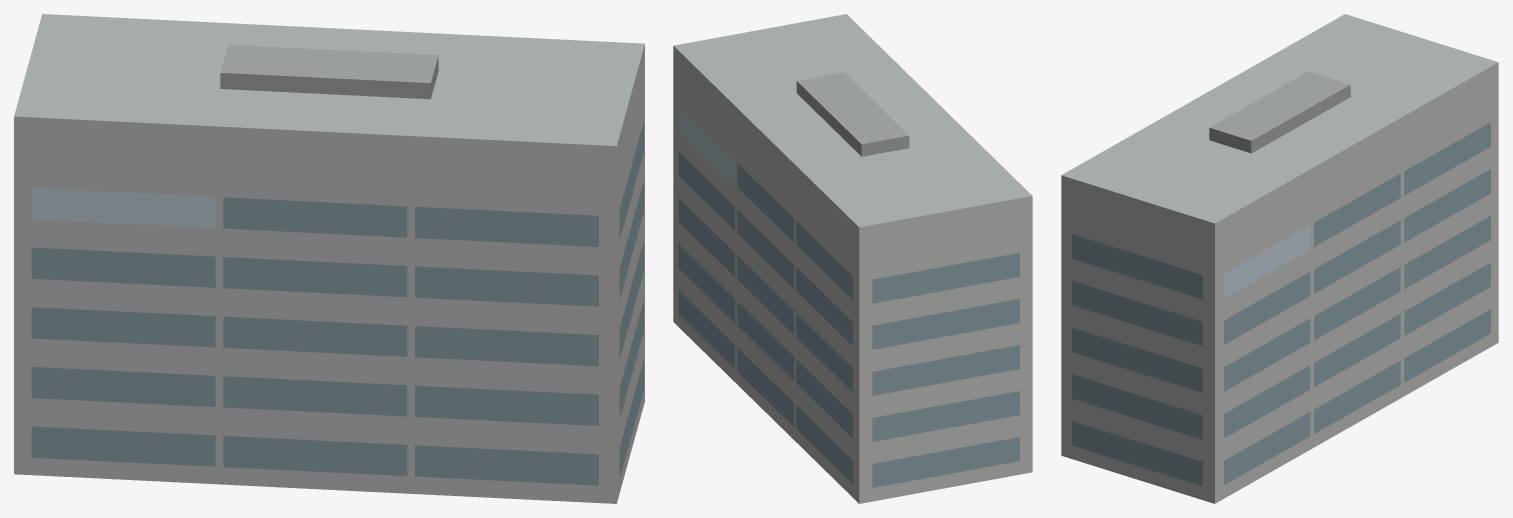
File: fallback-olympic-athletes-village-248.glb
The picture shows the model from 3 angles, left to right: view 1: azimuth 30°, elevation 25°; view 2: azimuth 150°, elevation 25°; view 3: azimuth 270°, elevation 25°; orthographic projection. The views are drawn at different scales.
Parts seen in each view (by area): view 1: fallback-olympic-athletes-village-248; view 2: fallback-olympic-athletes-village-248; view 3: fallback-olympic-athletes-village-248.
Part boxes in pixels (x1,y1,x2,y2): fallback-olympic-athletes-village-248: [14, 14, 644, 503]; fallback-olympic-athletes-village-248: [673, 14, 1032, 503]; fallback-olympic-athletes-village-248: [1061, 14, 1498, 503].
Size of the model in its own units: 29.32 by 19.12 by 25.87.
